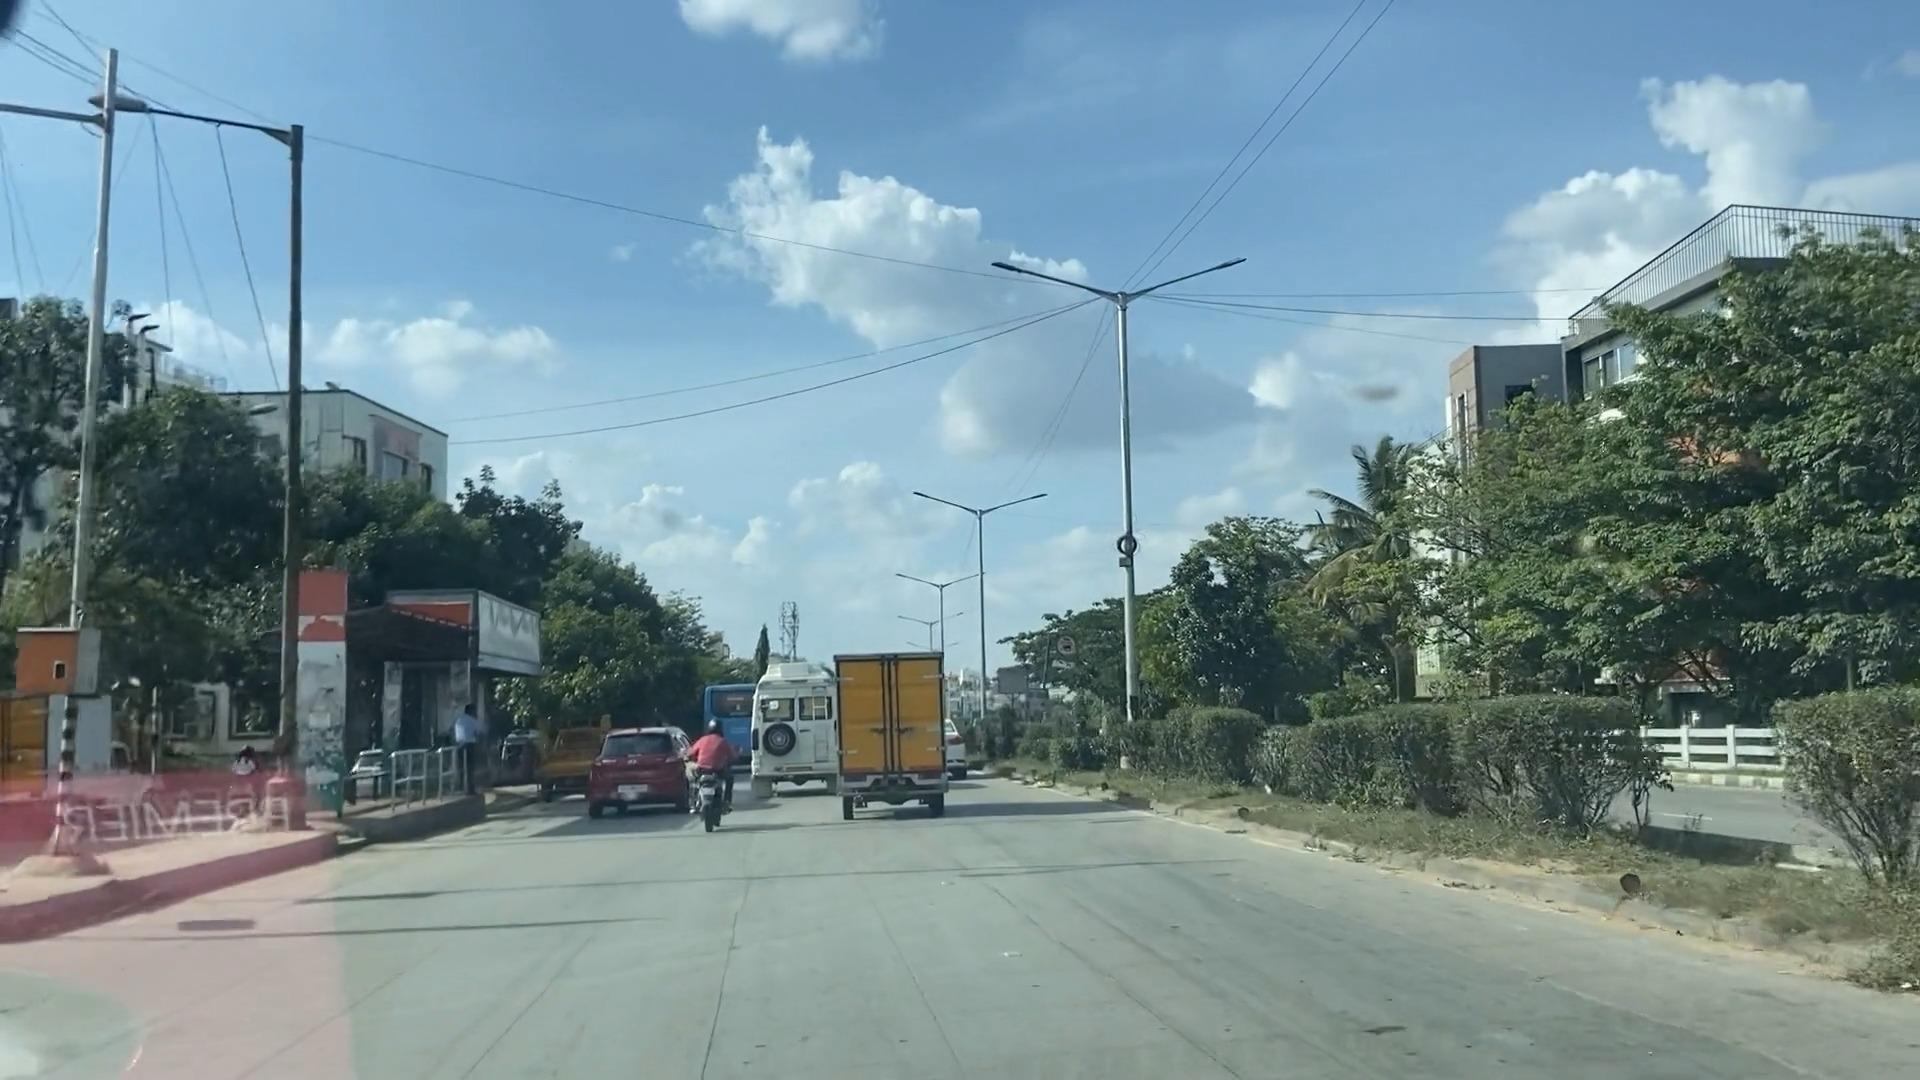HMV: (823, 646, 961, 810)
LMV: (603, 735, 684, 807), (691, 719, 732, 816)
